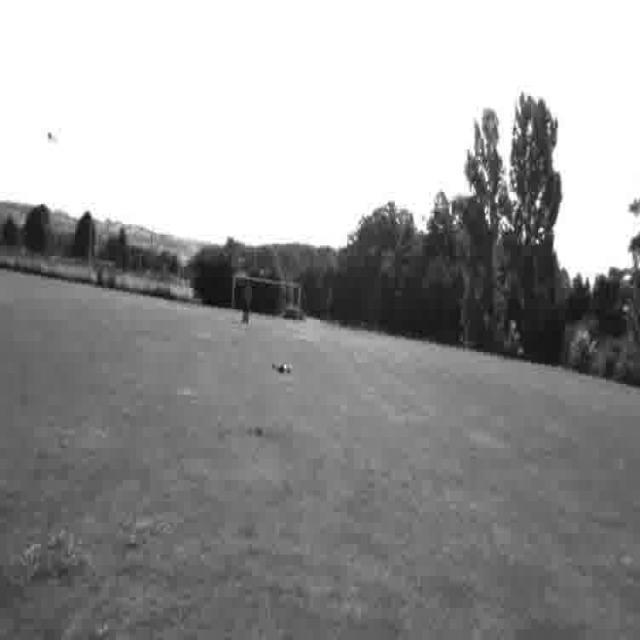drone: (268, 356, 292, 378)
